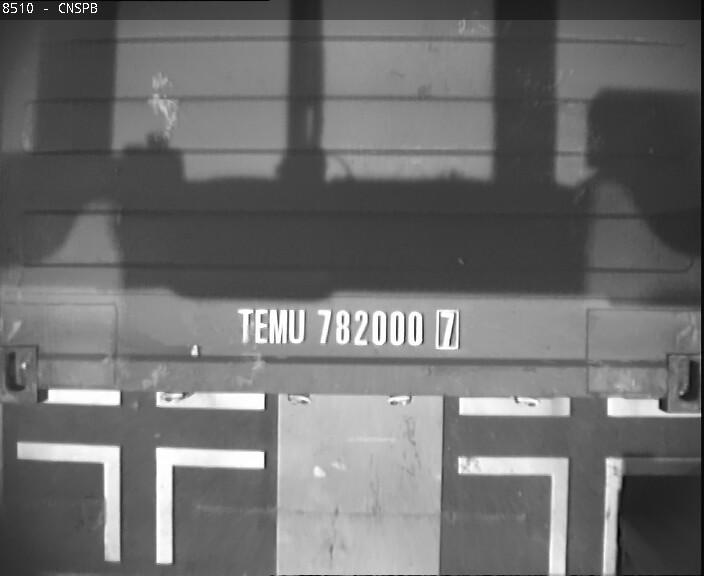groundmarker_1: (16, 439, 264, 561), (457, 457, 704, 576)
